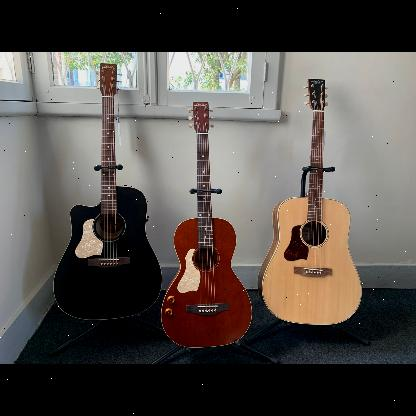acousticguitar: (51, 63, 162, 321), (257, 80, 363, 326), (159, 101, 253, 348)
